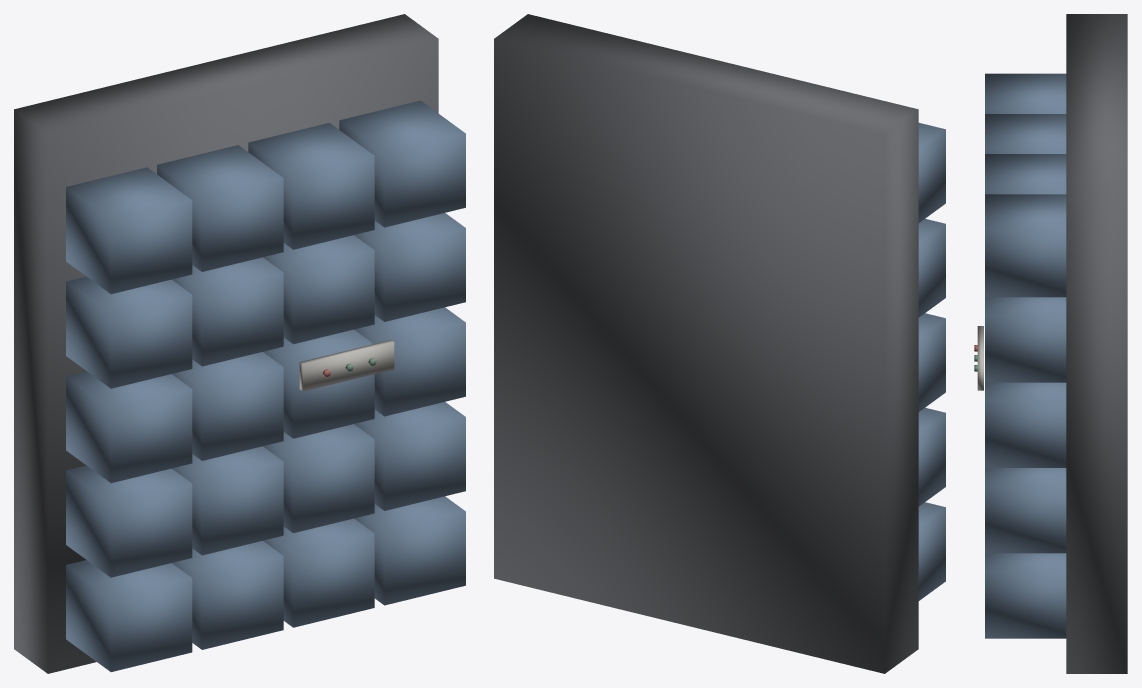
File: parts_bin_rack__reinforced.glb
3 views of the same model, side by side, from view 1: azimuth 30°, elevation 25°; view 2: azimuth 150°, elevation 25°; view 3: azimuth 270°, elevation 25° (orthographic). The views are drawn at different scales.
Parts seen in each view (by area): view 1: world; view 2: world; view 3: world.
Boxes of the visible parts, x1,y1,x2,y2 form: world: (14,14,465,673); world: (494,14,945,673); world: (974,14,1127,673).
Size of the model in its own units: 1.24 by 1.63 by 0.4645.
